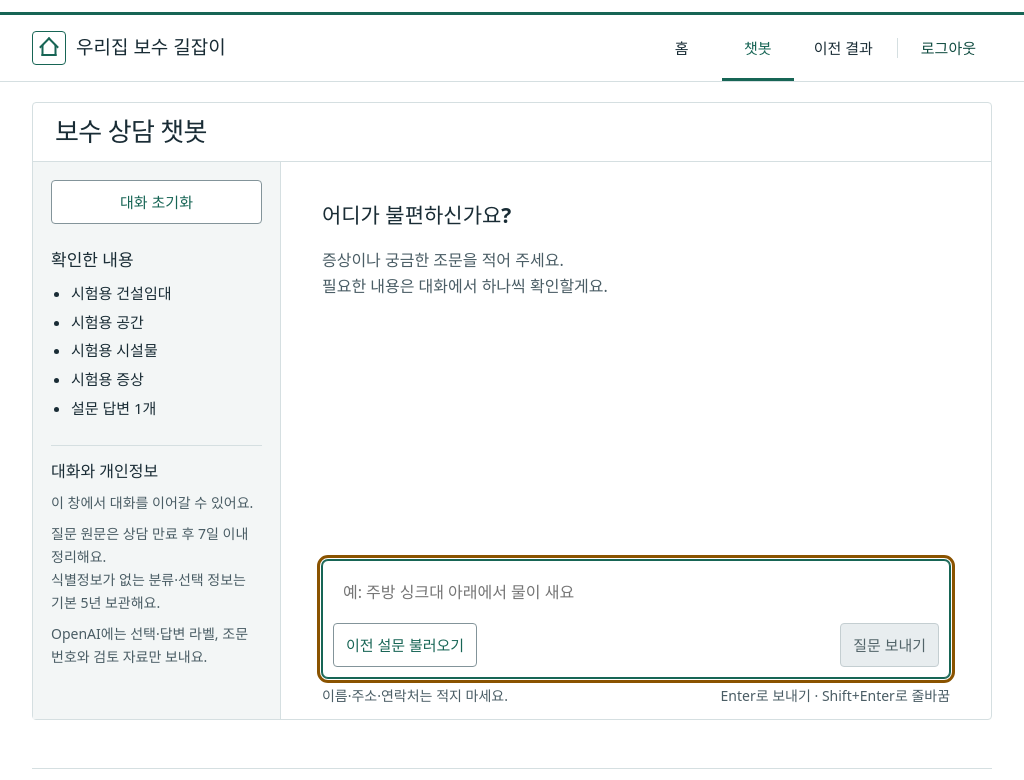
Test: recovers a lost deletion response and retries only creation after creation failure
Step 1. Click the button "대화 초기화" → (156, 202), box [51,180,262,224]
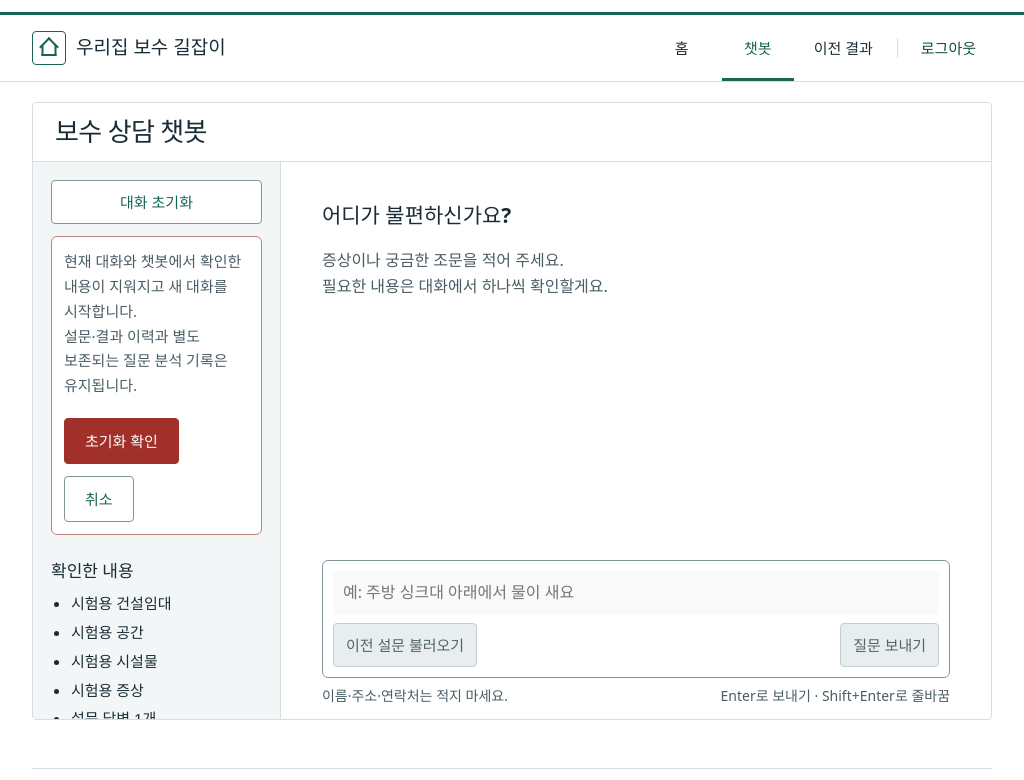
Step 2. Click the button "초기화 확인" → (121, 441), box [64,418,179,464]
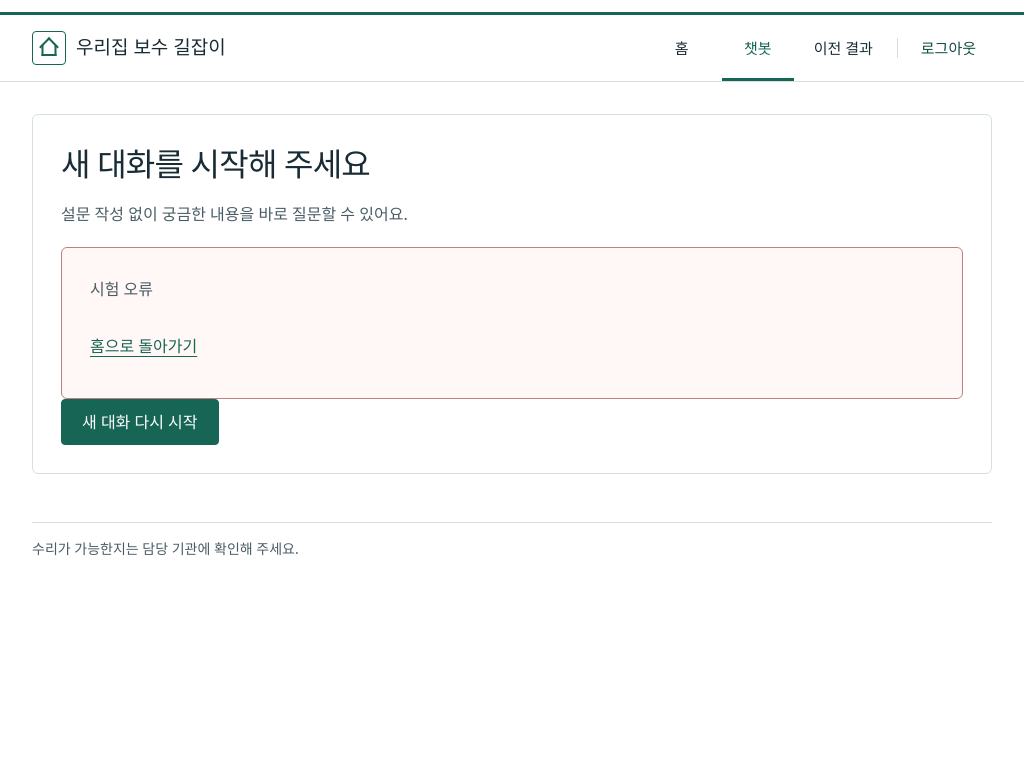
Step 3. Click the button "새 대화 다시 시작" → (140, 422), box [61,399,218,445]
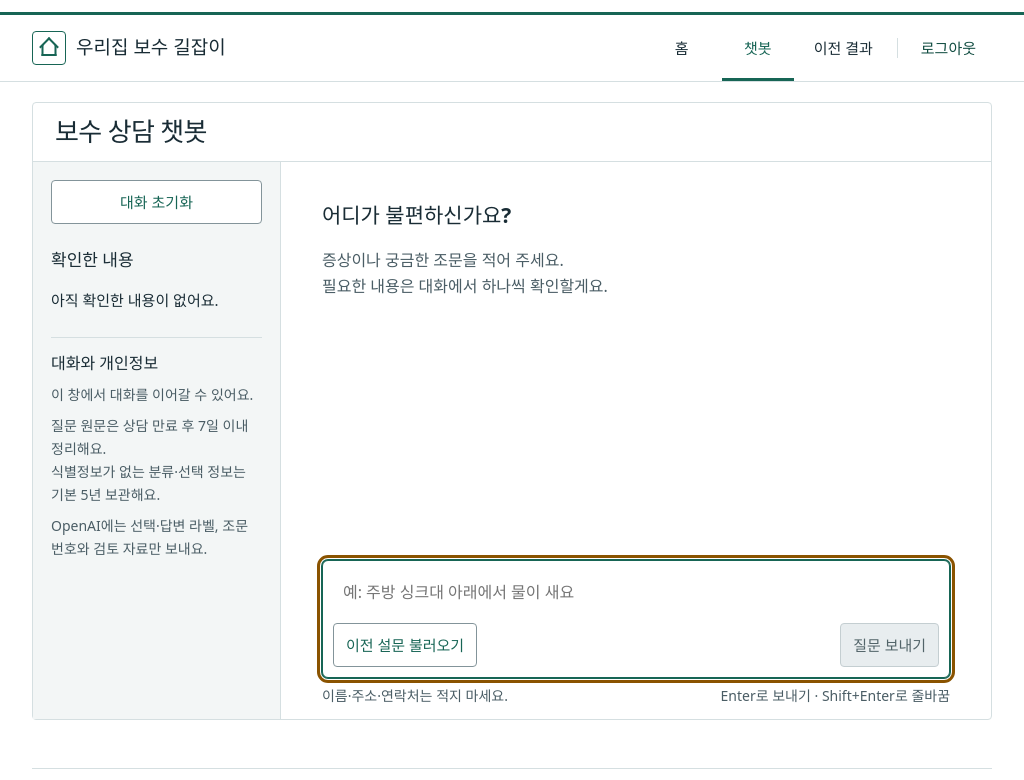
Check: the text box with id "chat-input" is shown, box [333,571,939,615]
